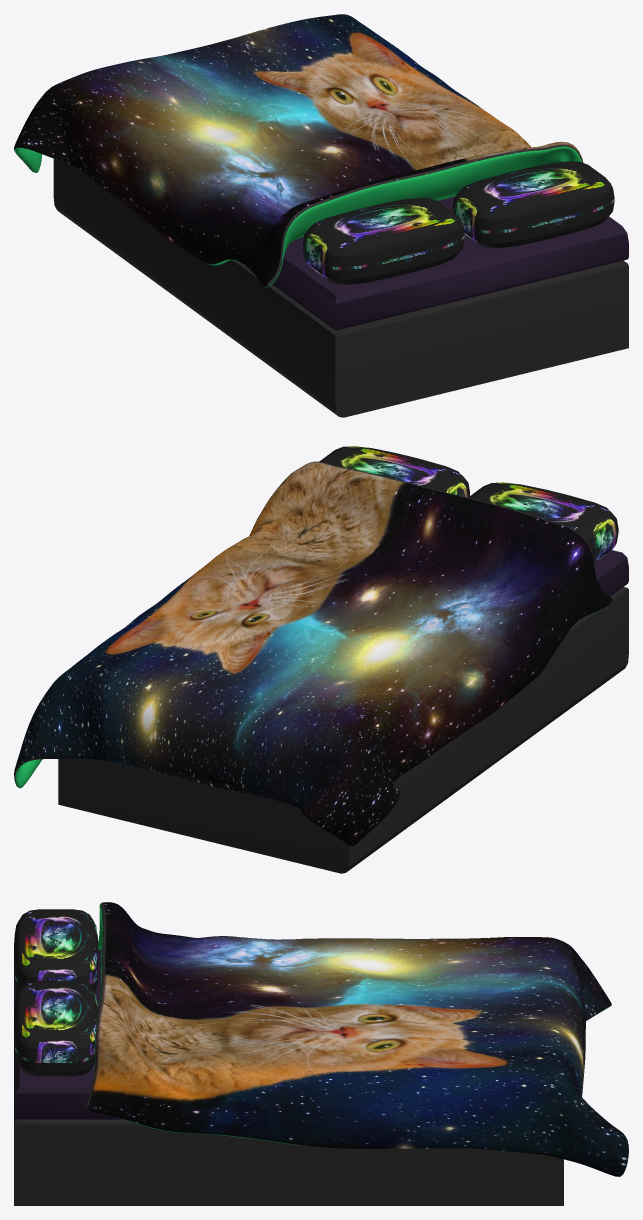
Rendered from Bed.FBX.
3 renders of one model, top to bottom at view 1: azimuth 30°, elevation 25°; view 2: azimuth 150°, elevation 25°; view 3: azimuth 270°, elevation 25°, orthographic. The views are drawn at different scales.
Visible parts, largest first — view 1: Plane001, Bed, Pillow1, Pillow2; view 2: Plane001, Bed, Pillow1, Pillow2; view 3: Plane001, Bed, Pillow2, Pillow1.
Part boxes in pixels (x1,y1,x2,y2): Plane001: (14, 14, 583, 287); Bed: (53, 159, 628, 417); Pillow1: (302, 198, 464, 284); Pillow2: (452, 161, 614, 247); Plane001: (14, 461, 612, 846); Bed: (58, 550, 628, 873); Pillow1: (468, 482, 618, 563); Pillow2: (319, 446, 469, 497); Plane001: (86, 902, 628, 1176); Bed: (14, 949, 563, 1205); Pillow2: (14, 980, 97, 1076); Pillow1: (14, 909, 98, 992).
Bounding box in the file's own units: 43.11 × 20.93 × 66.08.
Materials: 5 (2 with a texture image).
